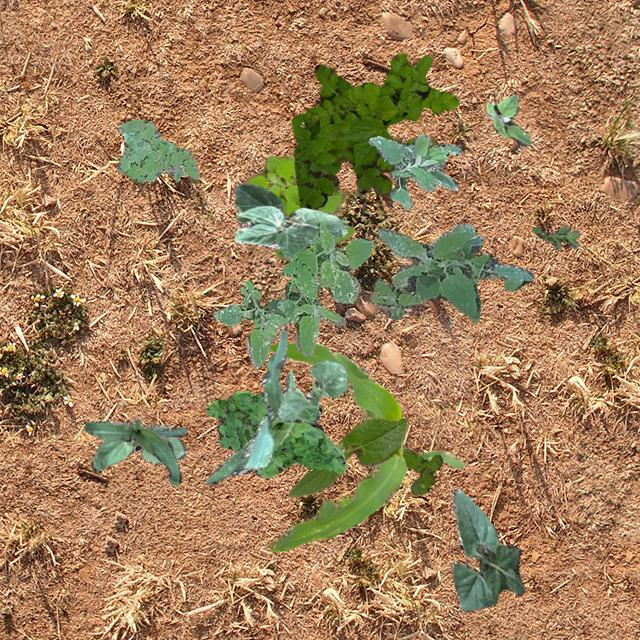crop: (266, 340, 462, 550), (204, 328, 294, 484), (288, 416, 407, 496), (450, 488, 522, 610), (234, 184, 348, 258), (84, 416, 185, 484), (90, 422, 186, 471), (276, 359, 346, 422)
weed: (291, 54, 458, 208), (212, 222, 374, 368), (370, 222, 532, 322), (205, 390, 346, 476), (246, 154, 354, 260), (368, 134, 462, 208), (115, 120, 198, 182), (486, 94, 530, 146), (402, 448, 442, 493), (532, 224, 578, 250)
